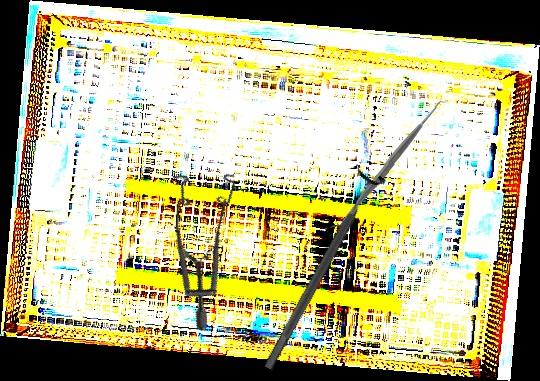Fixation Ring: (251, 163, 389, 377)
Spatula Surgical: (327, 100, 451, 229)
Speculum: (132, 151, 290, 333)
